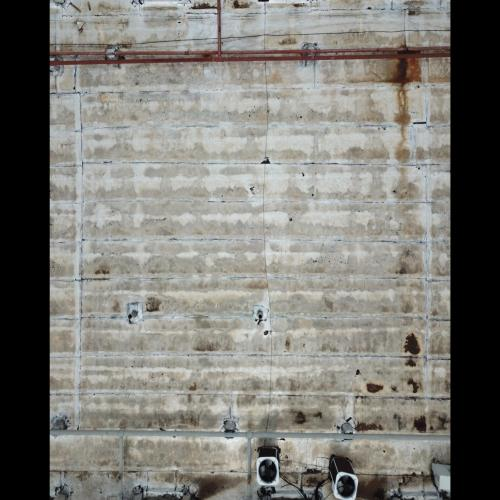conde: (327, 455, 362, 500), (252, 445, 284, 489), (429, 463, 451, 494)
